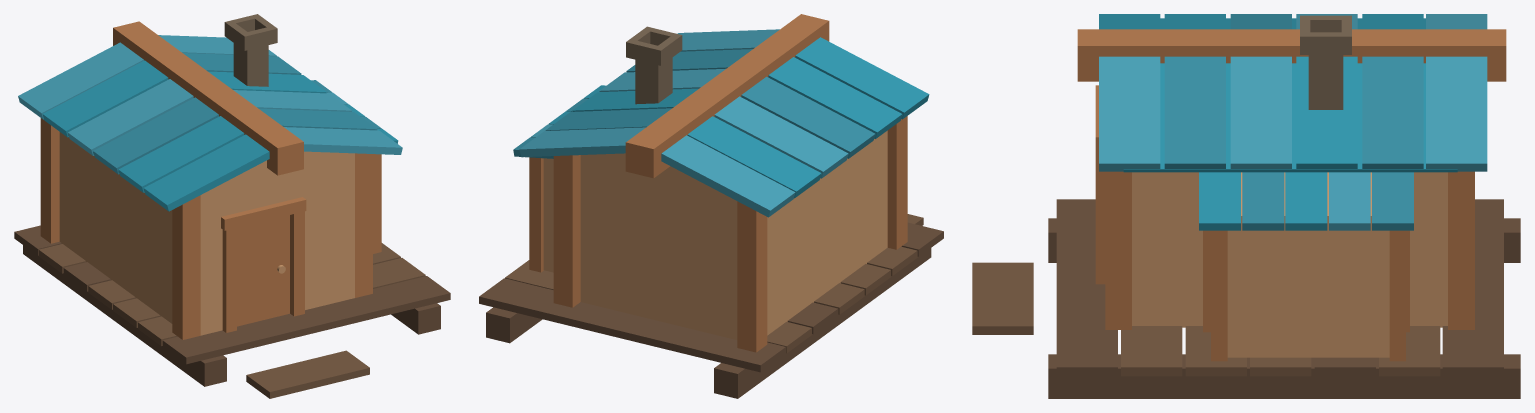
Rendered from House.fbx.
3 views of the same model, side by side, from view 1: azimuth 30°, elevation 25°; view 2: azimuth 150°, elevation 25°; view 3: azimuth 270°, elevation 25° (orthographic). The views are drawn at different scales.
Visible parts, largest first — view 1: House; view 2: House; view 3: House.
Boxes of the visible parts, x1,y1,x2,y2 form: House: (14,14,450,398); House: (479,14,943,398); House: (972,14,1520,398).
Bounding box in the file's own units: 46.49 × 40.55 × 62.88.
